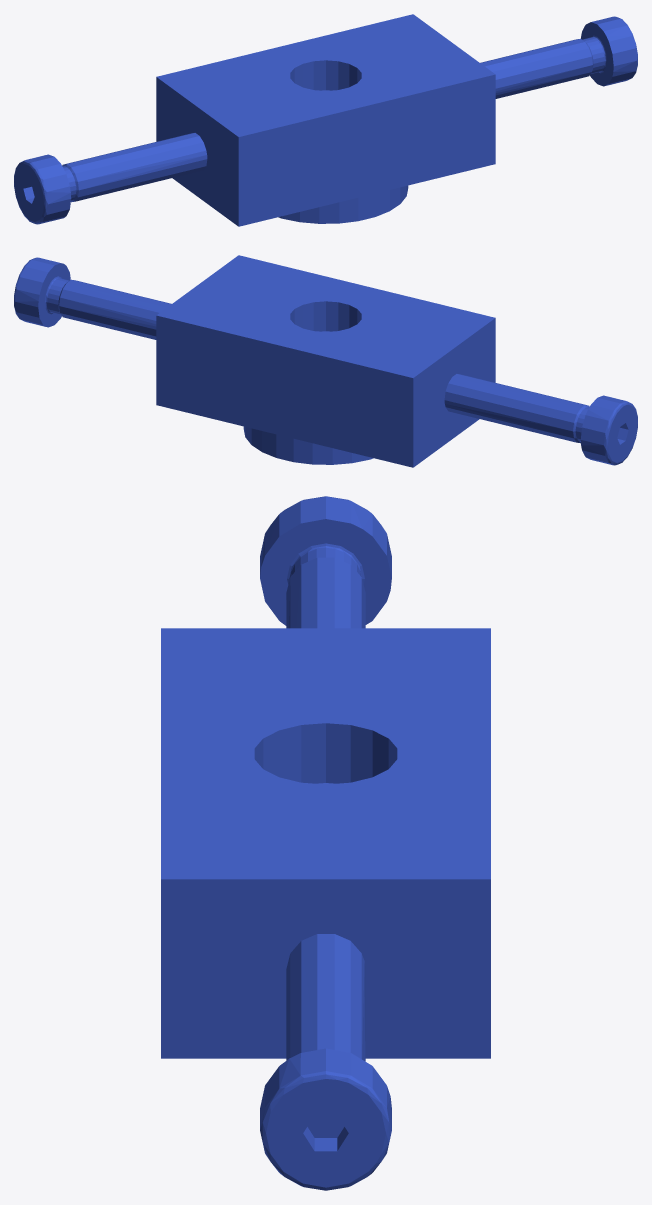
File: amr_crick_mozzo_vite.dae
3 renders of one model, top to bottom at view 1: azimuth 30°, elevation 25°; view 2: azimuth 150°, elevation 25°; view 3: azimuth 270°, elevation 25°, orthographic. The views are drawn at different scales.
Parts seen in each view (by area): view 1: amr_crick_motorid_no_caster_asm.006; view 2: amr_crick_motorid_no_caster_asm.006; view 3: amr_crick_motorid_no_caster_asm.006.
Part boxes in pixels (<box>): amr_crick_motorid_no_caster_asm.006: <box>14,14,637,226</box>; amr_crick_motorid_no_caster_asm.006: <box>14,255,637,467</box>; amr_crick_motorid_no_caster_asm.006: <box>161,496,490,1190</box>.
Bounding box in the file's own units: 0.104 × 0.025 × 0.019.
